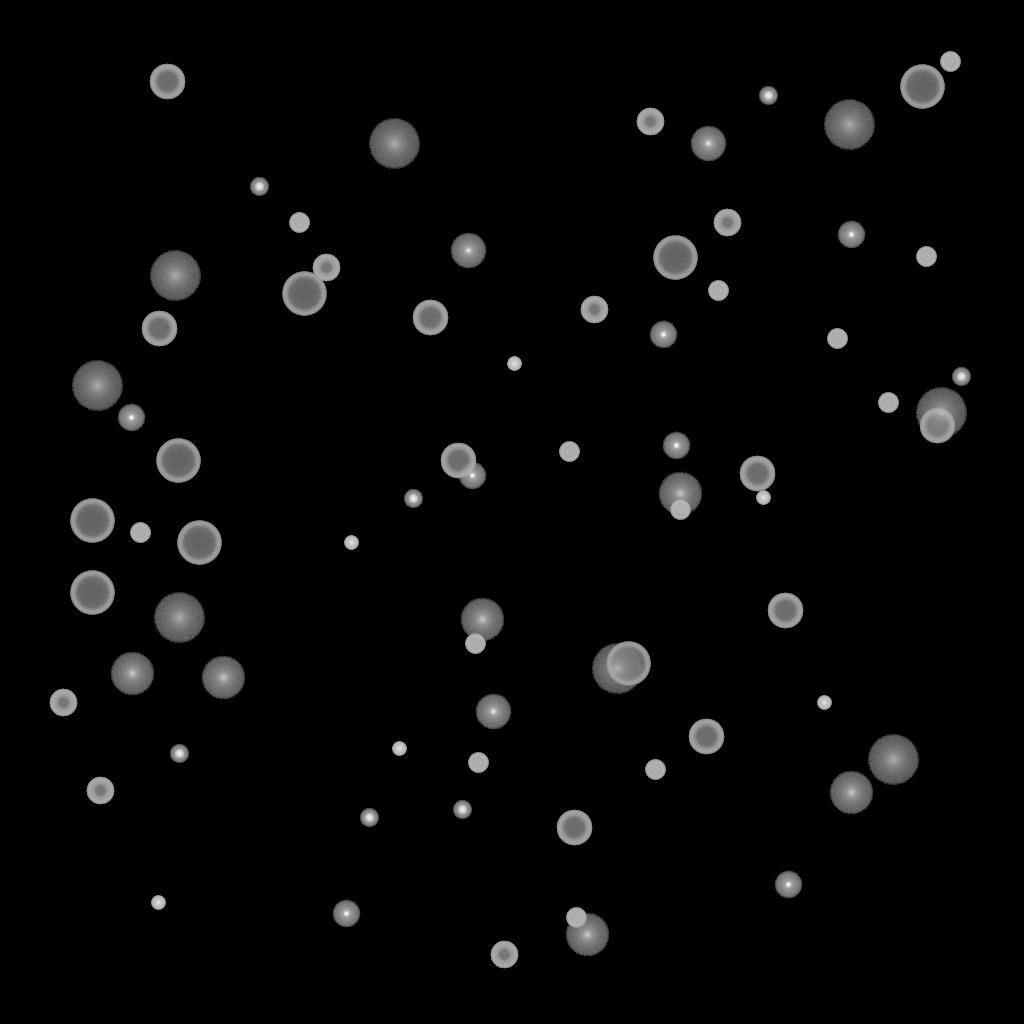depth:-10: (458, 462, 486, 490), (662, 432, 690, 460), (332, 900, 360, 928), (837, 221, 865, 249), (649, 321, 677, 349), (117, 404, 145, 432), (774, 871, 802, 899)
depth:-20: (404, 490, 422, 508), (952, 368, 970, 386), (759, 87, 777, 105), (170, 745, 188, 763), (250, 178, 268, 196), (453, 801, 471, 819), (360, 809, 378, 827)
depth:-30: (344, 536, 358, 550), (507, 357, 521, 371), (151, 896, 165, 910), (392, 742, 406, 756), (756, 491, 770, 505), (817, 696, 831, 710)
depth:-40: (468, 753, 488, 773), (827, 329, 847, 349), (559, 442, 579, 462), (289, 213, 309, 233), (708, 281, 728, 301), (645, 760, 665, 780), (670, 500, 690, 520), (878, 393, 898, 413), (916, 247, 936, 267), (940, 52, 960, 72), (566, 908, 586, 928), (465, 634, 485, 654), (130, 523, 150, 543)
depth:-50: (713, 209, 741, 237), (312, 254, 340, 282), (580, 296, 608, 324), (636, 108, 664, 136), (86, 777, 114, 805), (490, 941, 518, 969), (49, 689, 77, 717)
depth:-60: (739, 456, 775, 492), (149, 64, 185, 100), (556, 810, 592, 846), (767, 593, 803, 629), (141, 311, 177, 347), (440, 443, 476, 479), (688, 719, 724, 755), (412, 300, 448, 336), (919, 408, 955, 444)
depth:-70: (653, 236, 697, 280), (900, 65, 944, 109), (606, 642, 650, 686), (282, 272, 326, 316), (70, 571, 114, 615), (156, 439, 200, 483), (70, 499, 114, 543), (177, 521, 221, 565)
depth:0: (475, 694, 511, 730), (450, 233, 486, 269), (690, 126, 726, 162)
depth:10: (110, 652, 154, 696), (565, 913, 609, 957), (460, 598, 504, 642), (201, 656, 245, 700), (829, 771, 873, 815), (658, 472, 702, 516)
depth:20: (915, 388, 967, 438), (71, 361, 123, 411), (368, 119, 420, 169), (149, 251, 201, 301), (591, 644, 643, 694), (867, 735, 919, 785), (823, 100, 875, 150), (153, 593, 205, 643)
